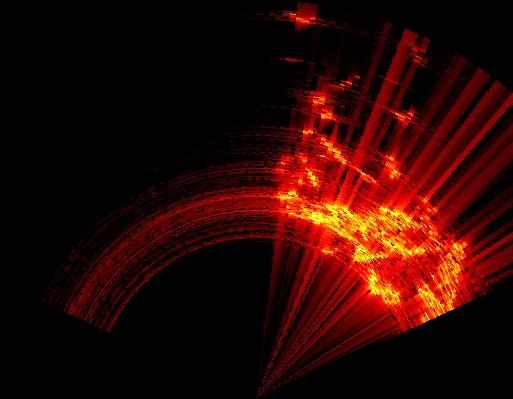shipwreck: (279, 93, 474, 326)
